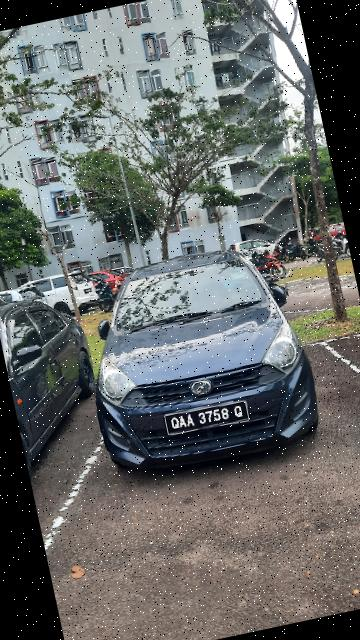License_Plate: (161, 396, 253, 442)
car: (64, 225, 330, 489), (1, 270, 115, 464)
